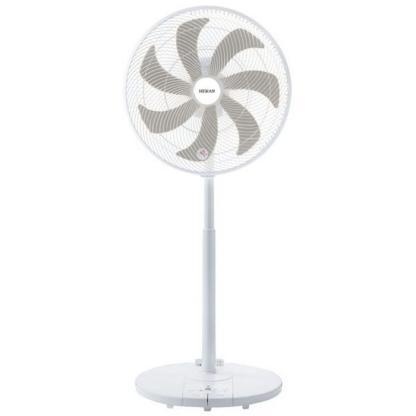fan: (112, 7, 312, 171)
